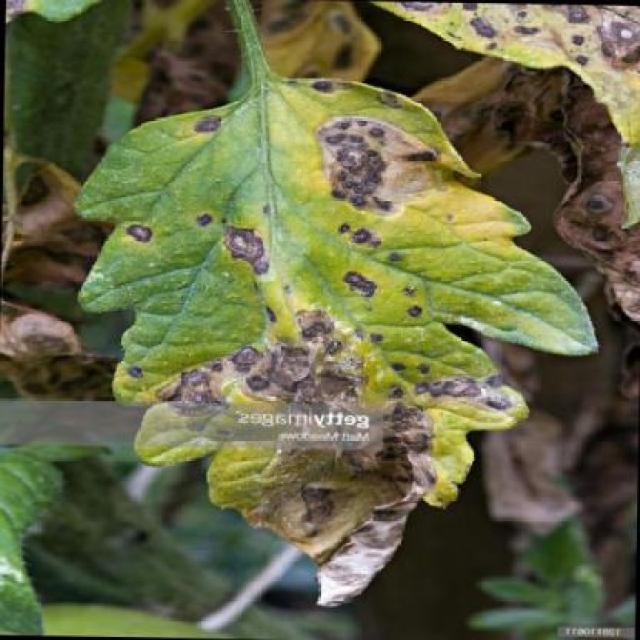Septoria leaf spot: (100, 89, 505, 609)
